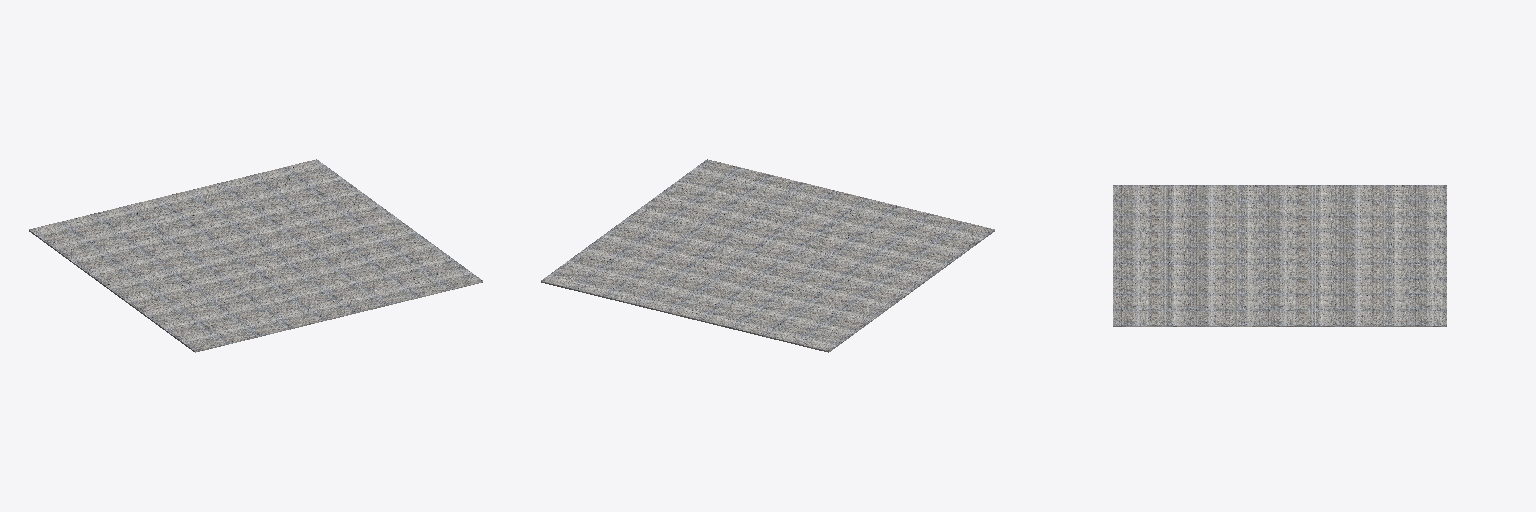
3 renders of one model, left to right at view 1: azimuth 30°, elevation 25°; view 2: azimuth 150°, elevation 25°; view 3: azimuth 270°, elevation 25°, orthographic.
Visible parts, largest first — view 1: Cube; view 2: Cube; view 3: Cube.
Boxes of the visible parts, box(x1,y1,x2,y2) form: Cube: box(29, 159, 482, 352); Cube: box(541, 159, 994, 352); Cube: box(1113, 185, 1446, 326).
Bounding box in the file's own units: 207 × 0.9168 × 207.
Materials: 1 (1 with a texture image).